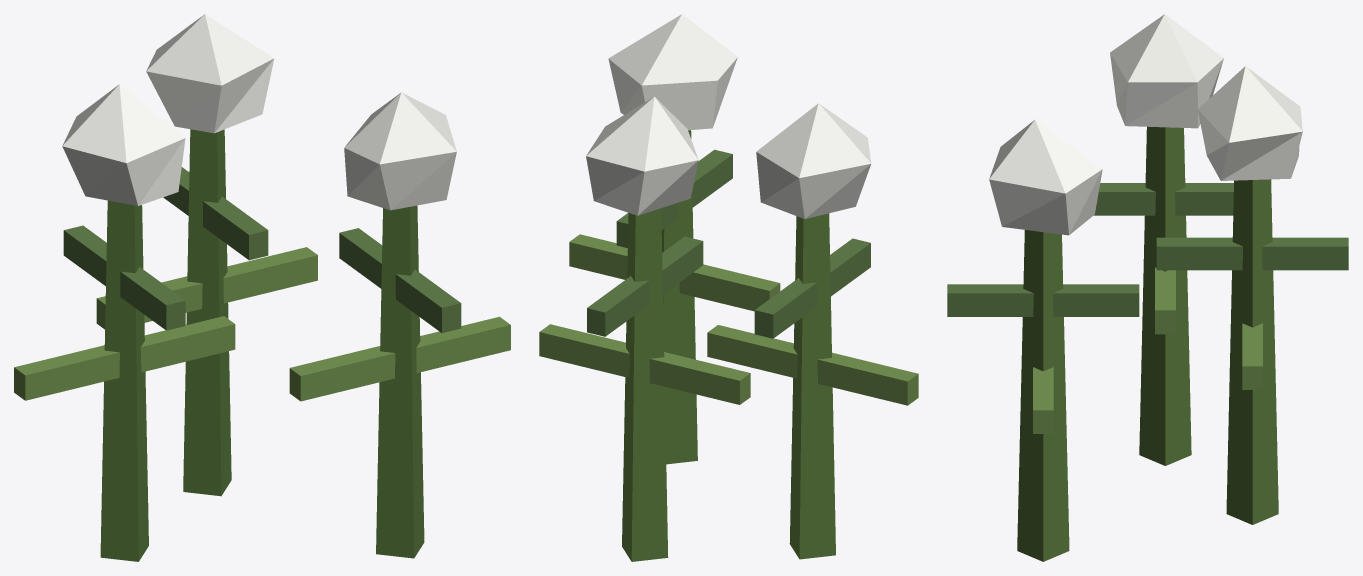
File: cotton.obj
3 renders of one model, left to right at view 1: azimuth 30°, elevation 25°; view 2: azimuth 150°, elevation 25°; view 3: azimuth 270°, elevation 25°, orthographic. The views are drawn at different scales.
Parts seen in each view (by area): view 1: cotton; view 2: cotton; view 3: cotton.
Boxes of the visible parts, x1,y1,x2,y2 form: cotton: [14, 14, 510, 561]; cotton: [539, 14, 918, 561]; cotton: [947, 14, 1348, 561].
Bounding box in the file's own units: 0.52 × 0.5633 × 0.46.
